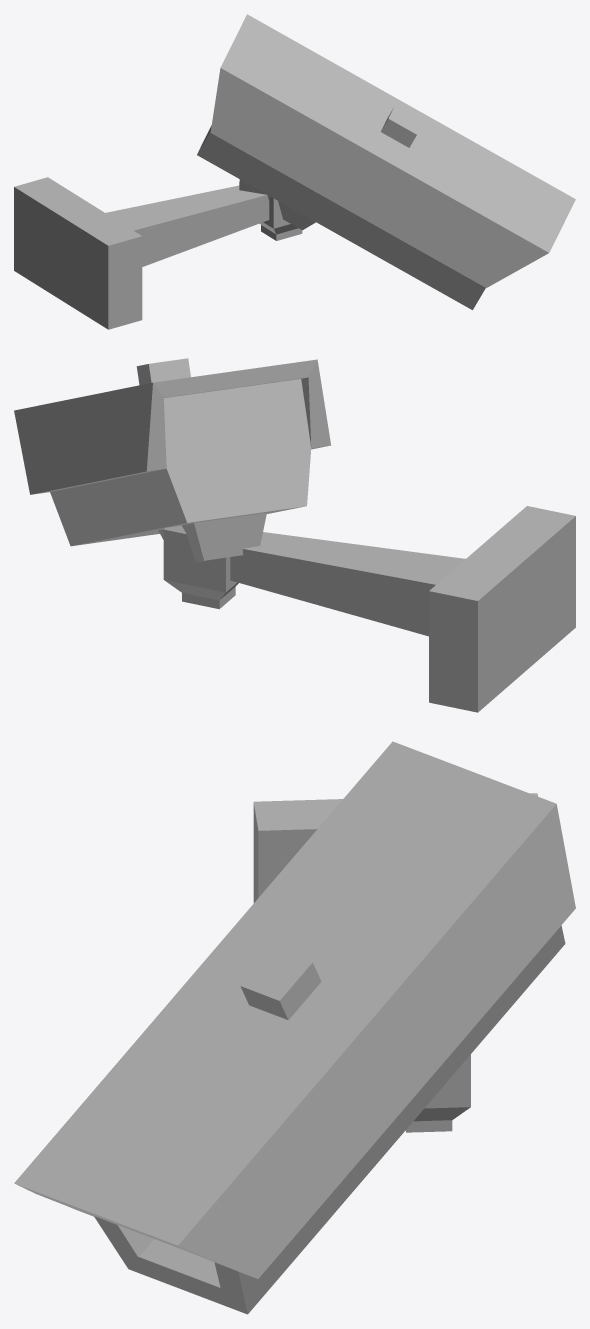
Rendered from SecurityCamera_Sign1.glb.
The picture shows the model from 3 angles, top to bottom: view 1: azimuth 30°, elevation 25°; view 2: azimuth 150°, elevation 25°; view 3: azimuth 270°, elevation 25°; orthographic projection. The views are drawn at different scales.
Visible parts, largest first — view 1: Security_Camera, Security_Camera_Mount; view 2: Security_Camera, Security_Camera_Mount; view 3: Security_Camera, Security_Camera_Mount.
Part boxes in pixels (<box>): Security_Camera: <box>197,14,575,309</box>; Security_Camera_Mount: <box>14,177,302,329</box>; Security_Camera: <box>14,358,331,562</box>; Security_Camera_Mount: <box>163,506,575,712</box>; Security_Camera: <box>14,741,575,1314</box>; Security_Camera_Mount: <box>253,793,537,1132</box>.
Size of the model in its own units: 0.5582 by 0.2668 by 0.3532.
2 materials, 2 textured.
